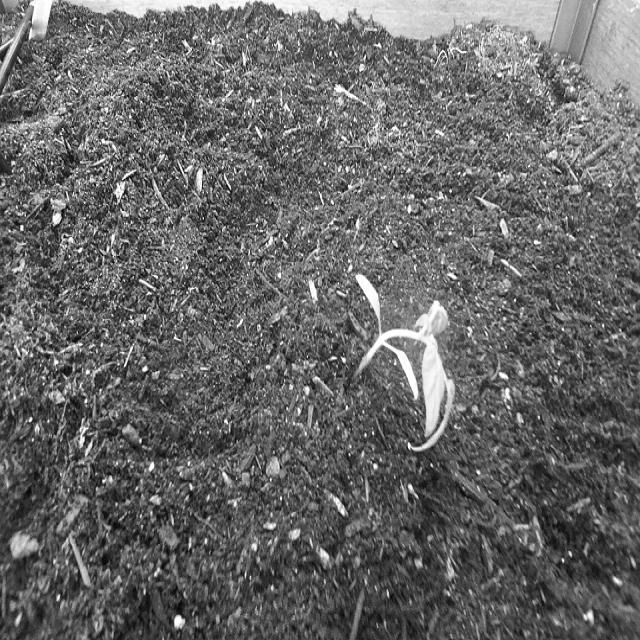Healthy: (346, 270, 459, 461)
